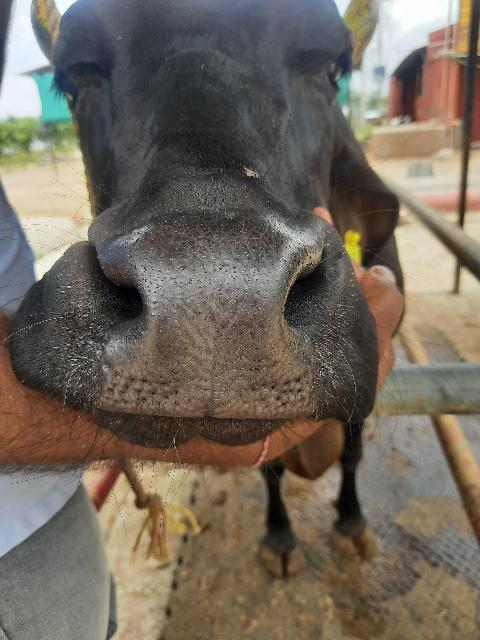Muzzle: (127, 215, 299, 411)
